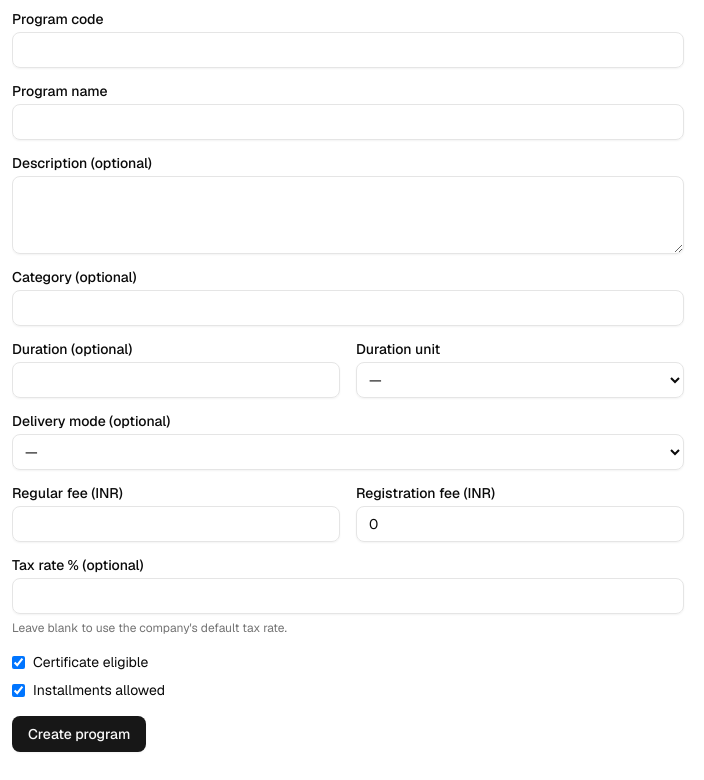
Test: ProgramForm + createProgramAction: duplicate-code failure preserves the form › keeps an exact decimal fee (e.g. 500.50) after a duplicate-code error
Type "FSD-101" into the field labelled "Program code" at [348, 50], box [12,32,684,68]
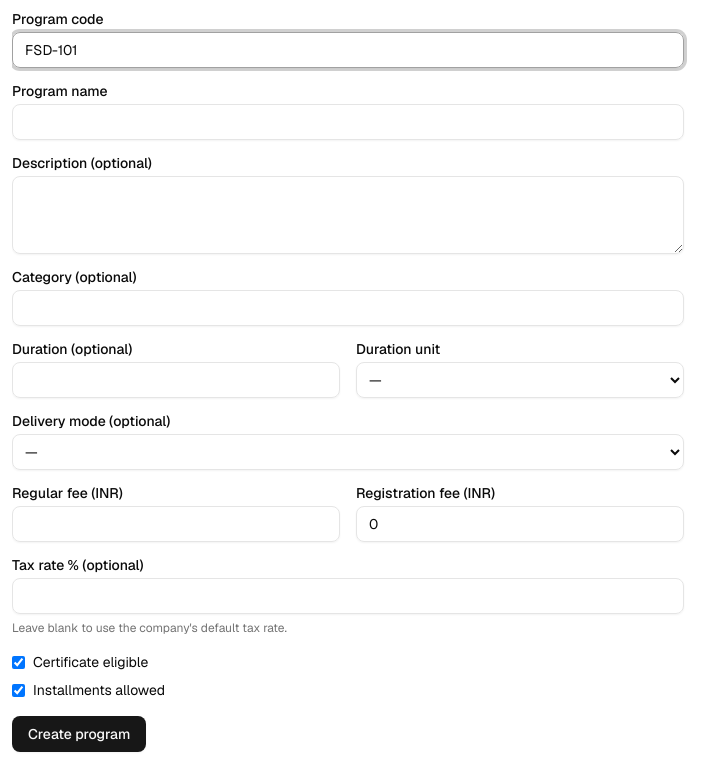
Type "Full Stack Development" into the field labelled "Program name" at [348, 122], box [12,104,684,140]
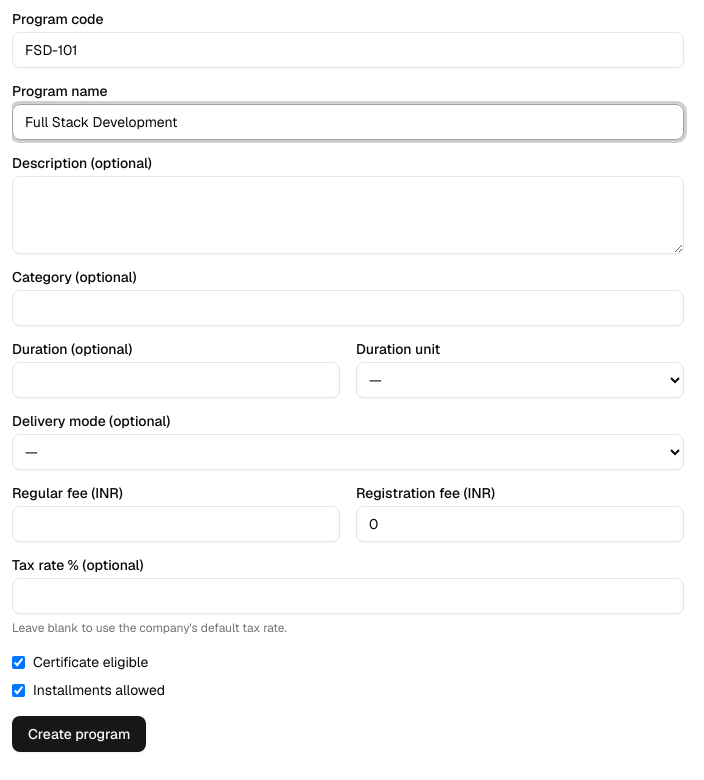
Type "500.50" into the number field labelled "Regular fee (INR)" at [176, 524], box [12,506,340,542]
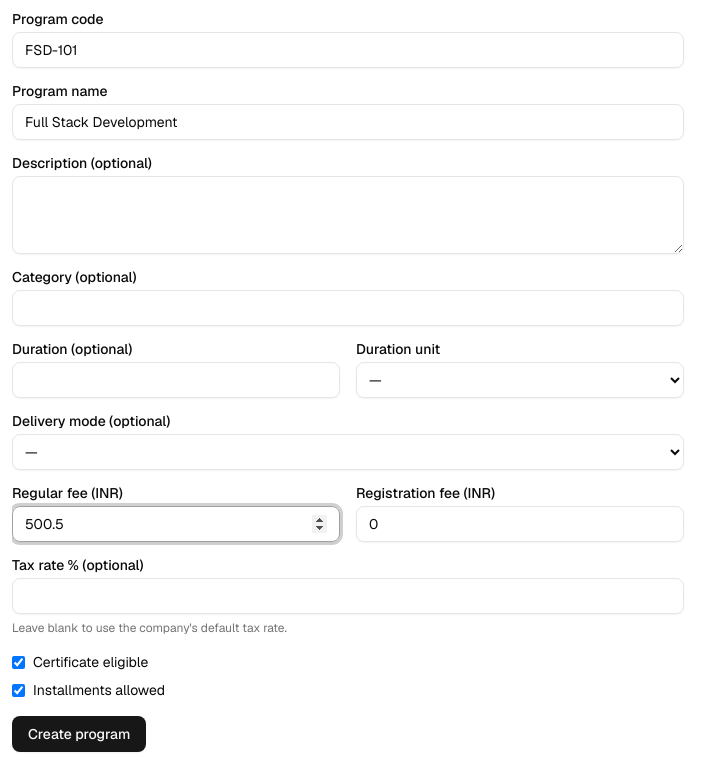
Click the button "Create program" at [79, 734], box [12,716,146,752]
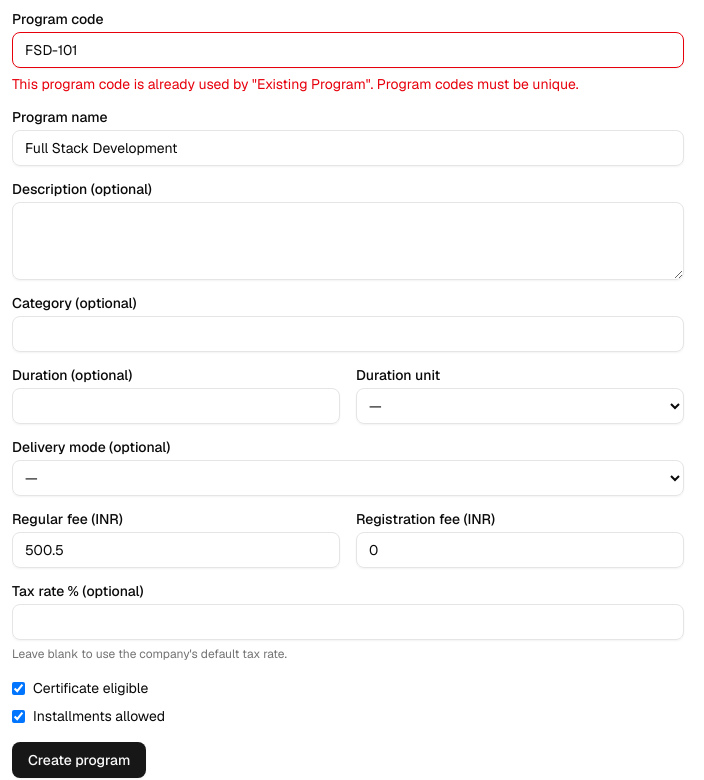
Check: the number field labelled "Regular fee (INR)" holds "500.5", box [12,532,340,568]
Check: the text "already used by \"Existing Program\"" is shown, box [12,75,579,93]
